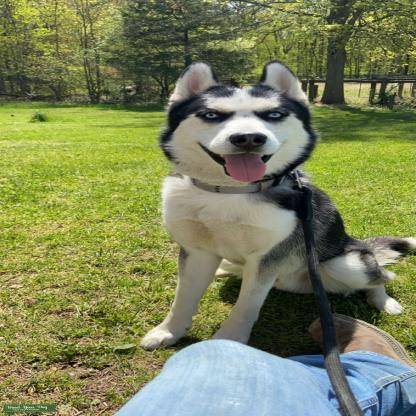dog: (140, 63, 416, 356)
